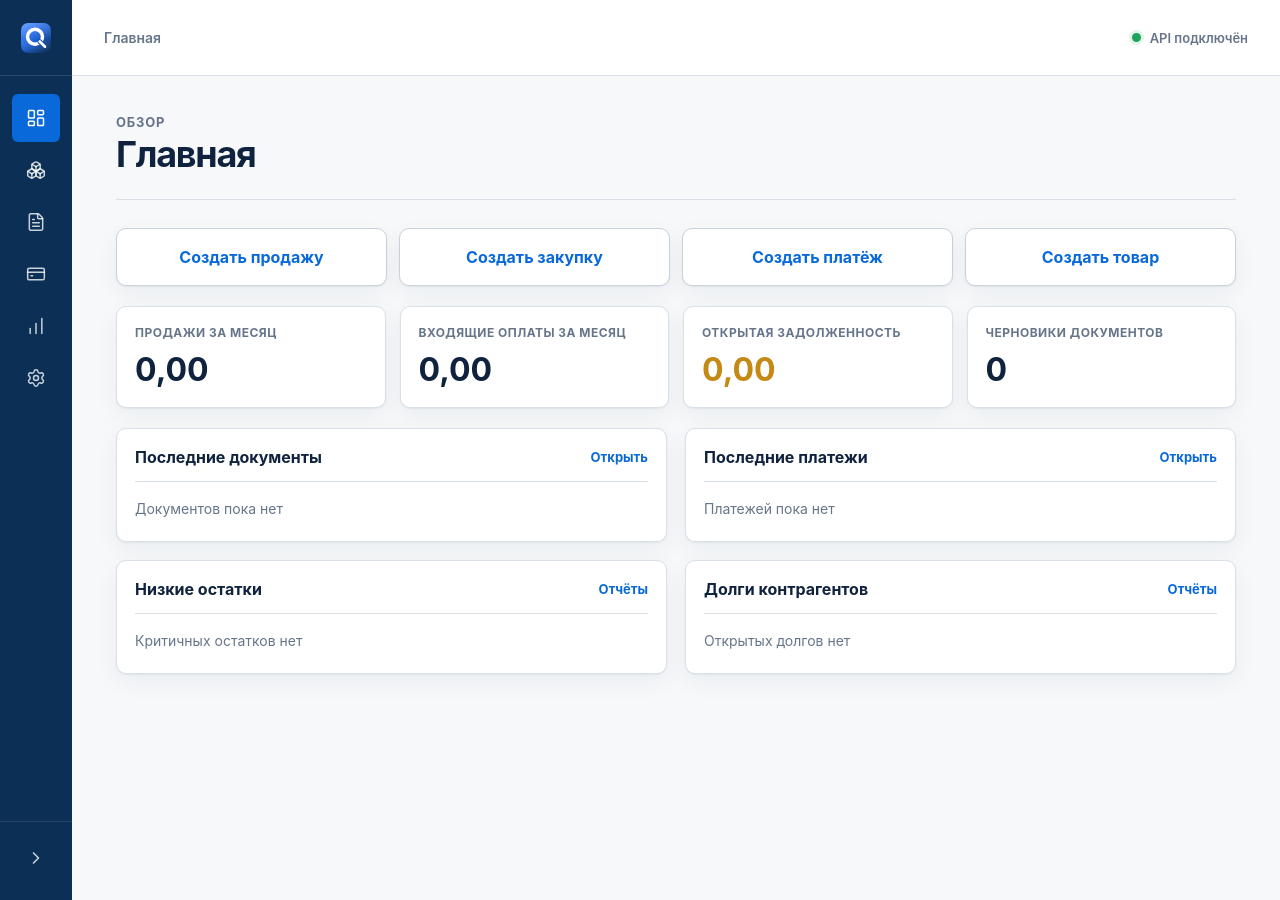
Test case: Quanti application shell › navigates through every foundation route
Click the 2nd link named "Справочники" at (36, 170), box [26, 160, 46, 180]
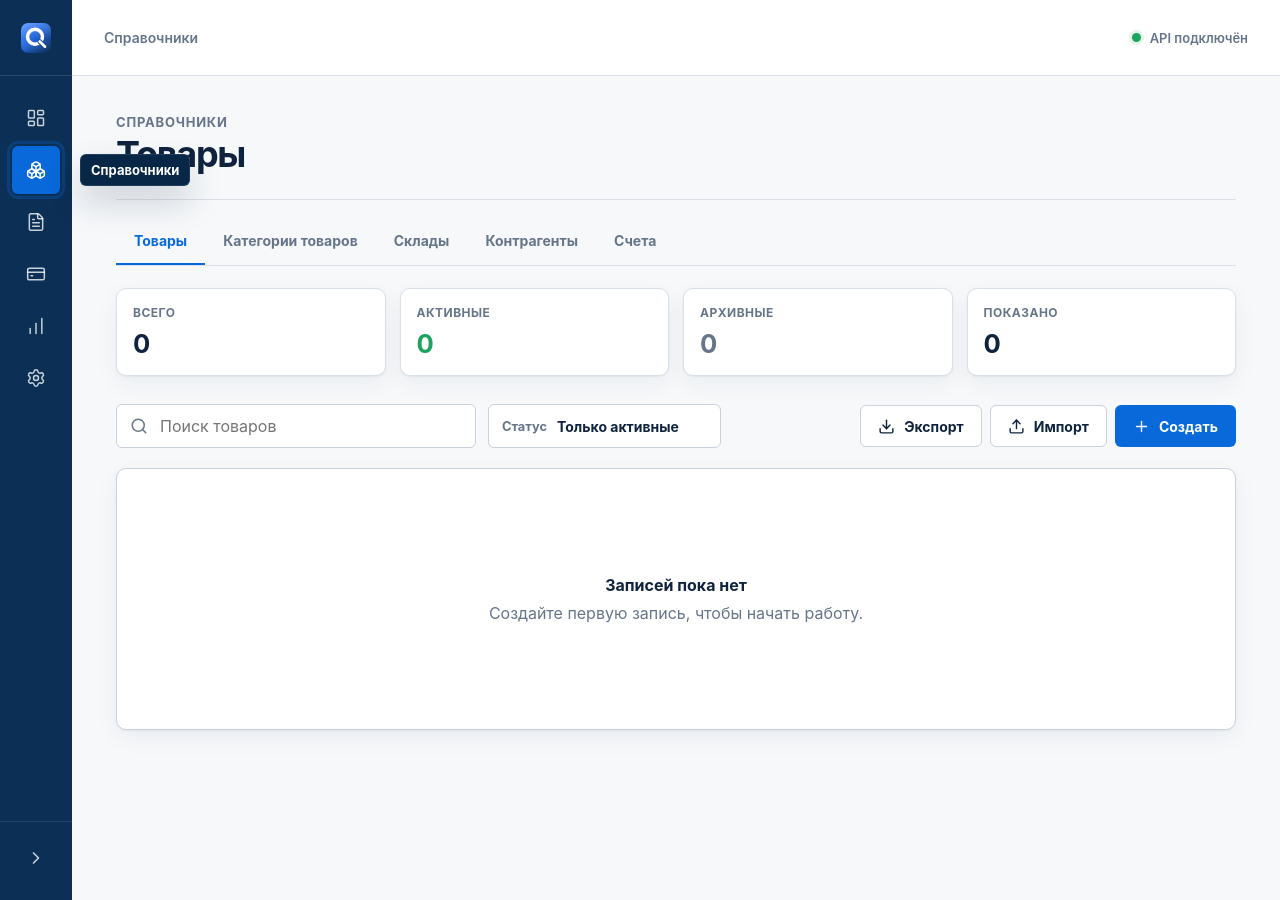
Now the heading "Товары" is shown, box [116, 132, 245, 176]
Click the 2nd link named "Документы" at (36, 222), box [26, 212, 46, 232]
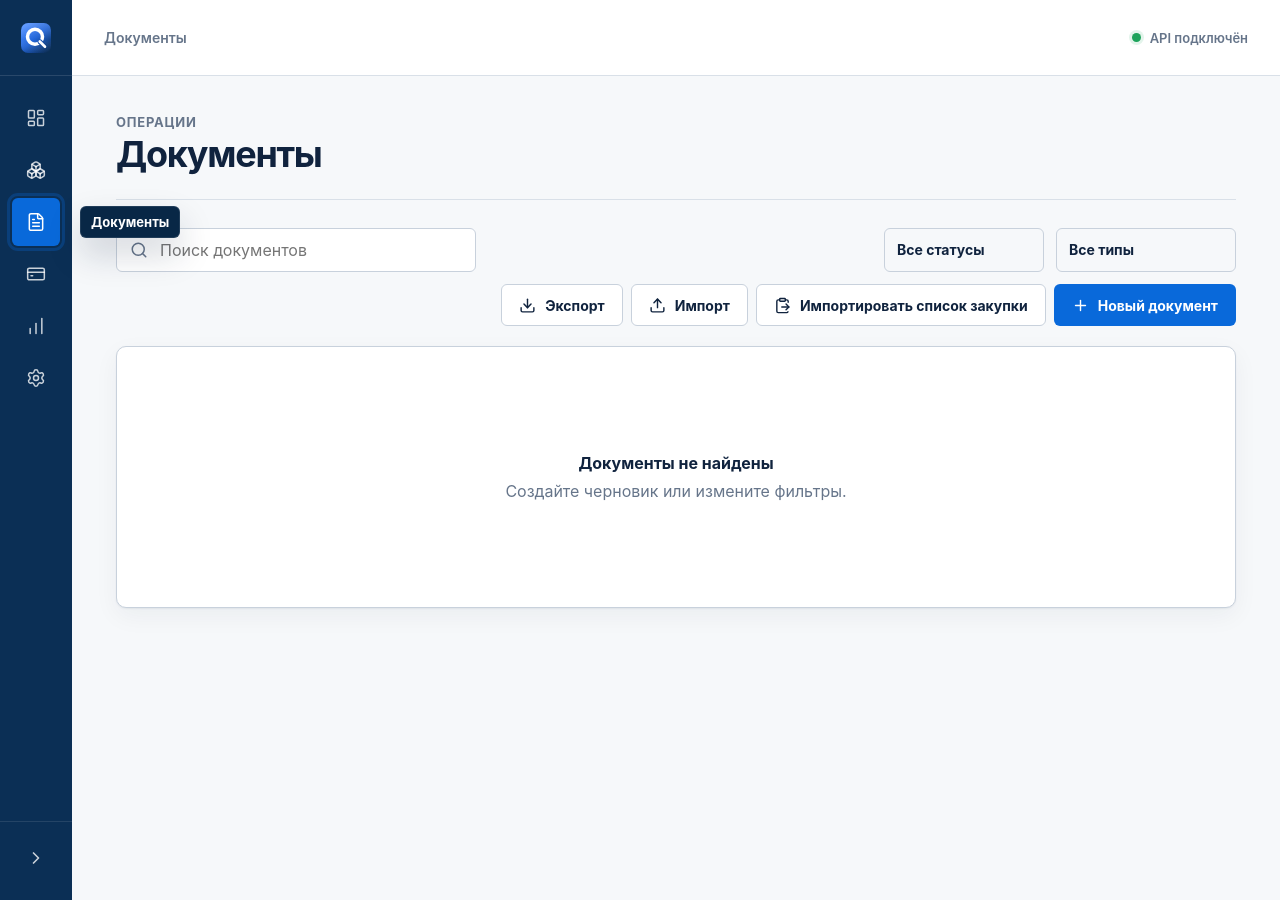
Now the heading "Документы" is shown, box [116, 132, 322, 176]
Click the 3rd link named "Платежи" at (36, 274), box [26, 264, 46, 284]
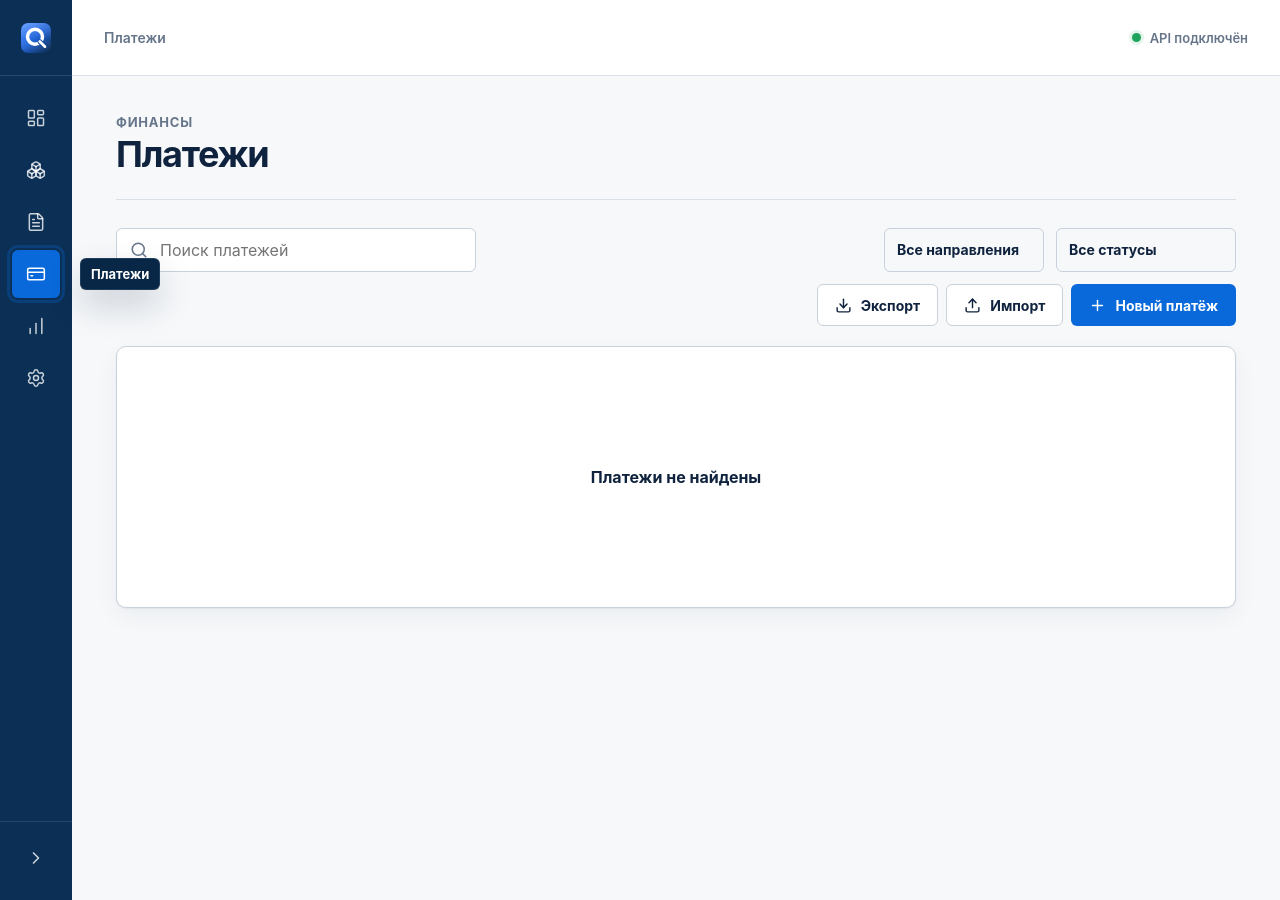
Now the heading "Платежи" is shown, box [116, 132, 268, 176]
Click the 4th link named "Отчёты" at (36, 326), box [26, 316, 46, 336]
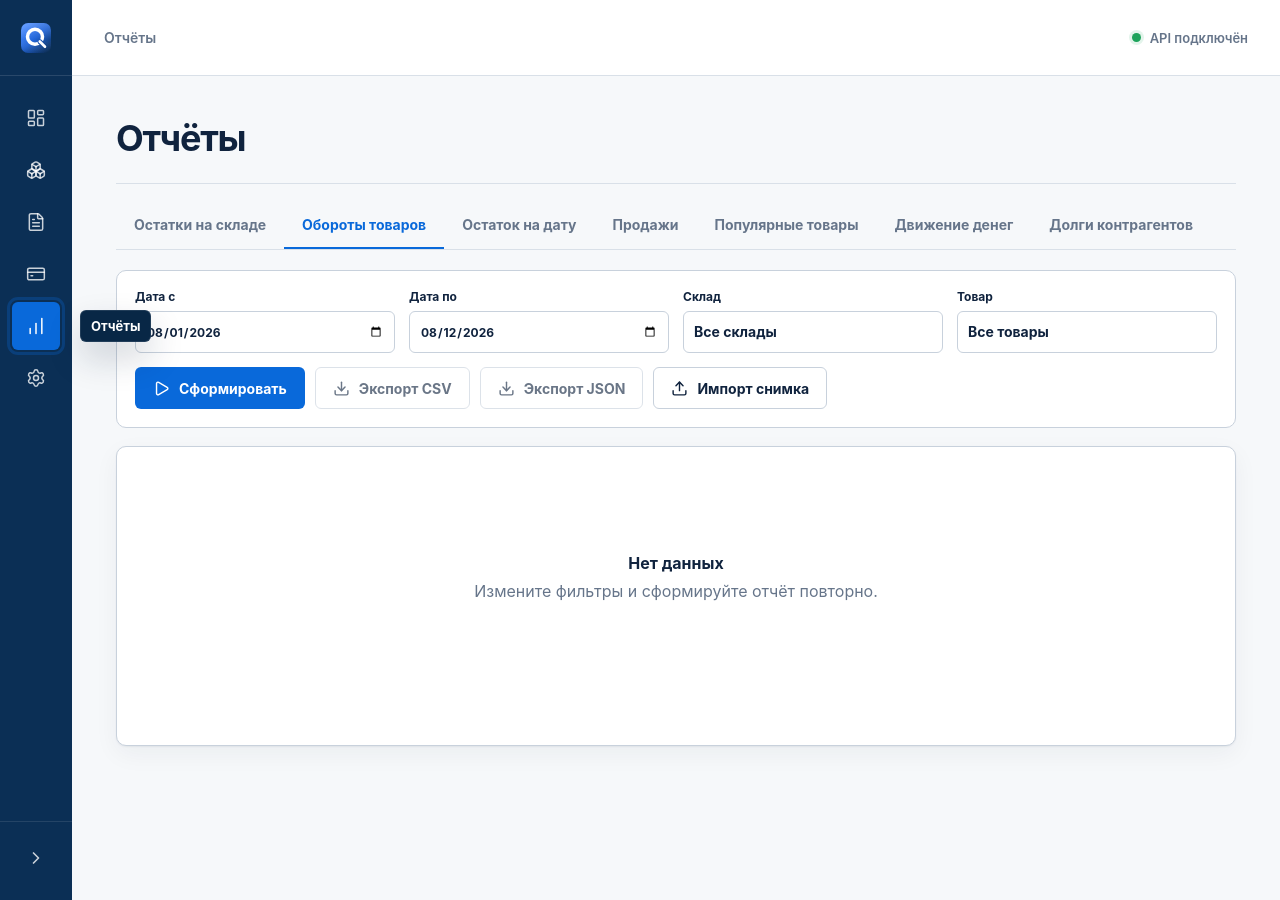
Now the heading "Отчёты" is shown, box [116, 116, 245, 160]
Click the 5th link named "Настройки" at (36, 378), box [26, 368, 46, 388]
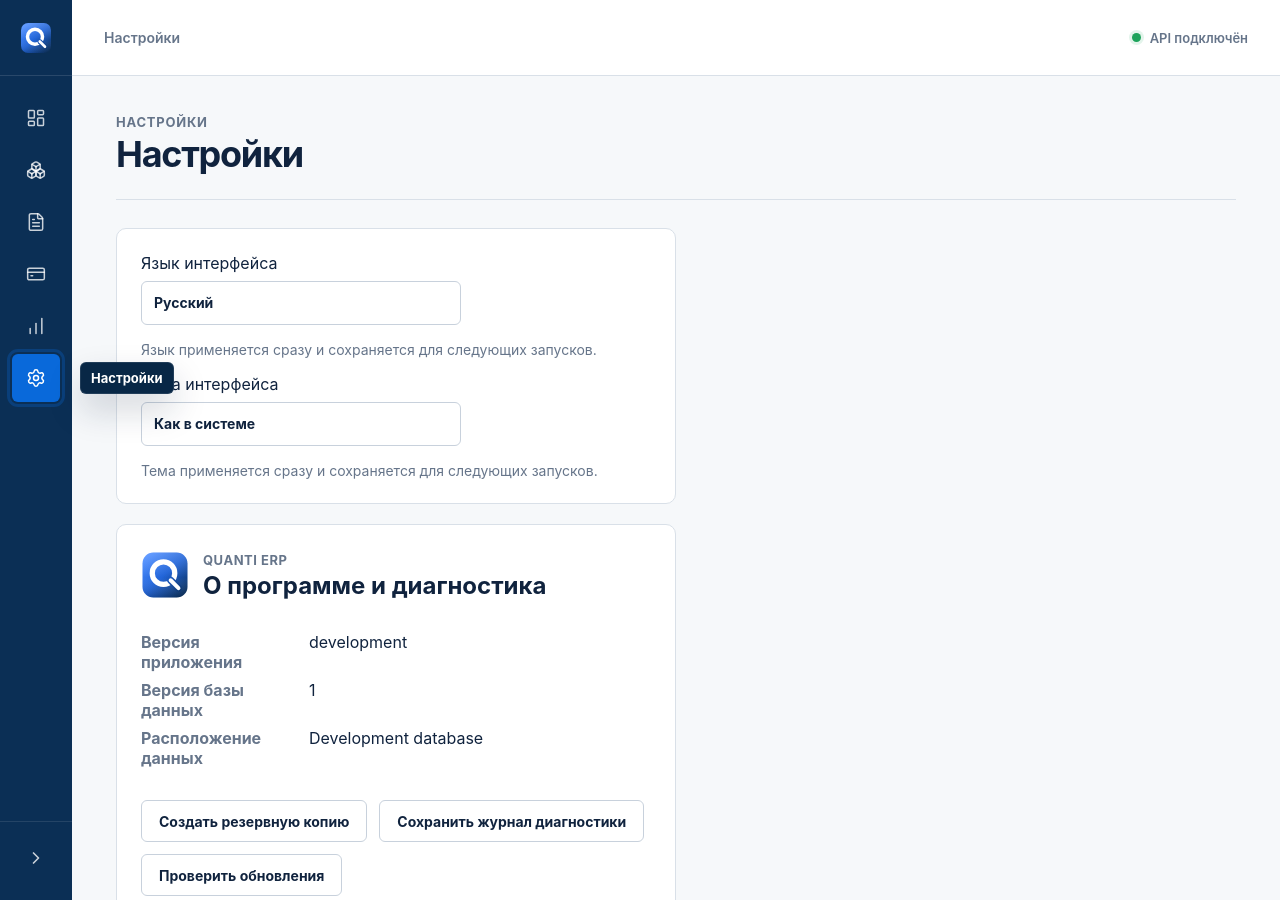
Now the heading "Настройки" is shown, box [116, 132, 303, 176]
